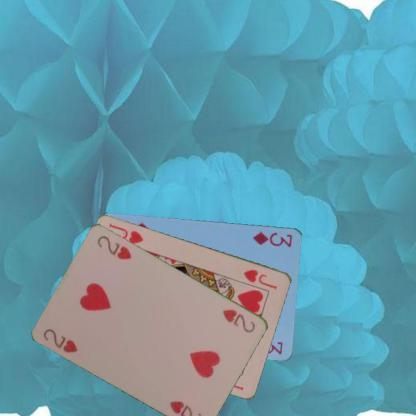2h: (40, 326, 80, 354), (220, 306, 257, 334)
3d: (250, 230, 294, 248)
Jh: (240, 266, 278, 291)
